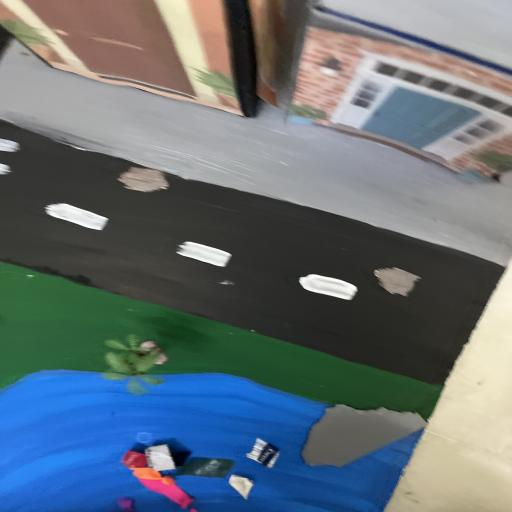encroachment: (300, 402, 430, 472)
porthole: (118, 165, 173, 193), (371, 268, 419, 298)
trash: (114, 435, 290, 512)
